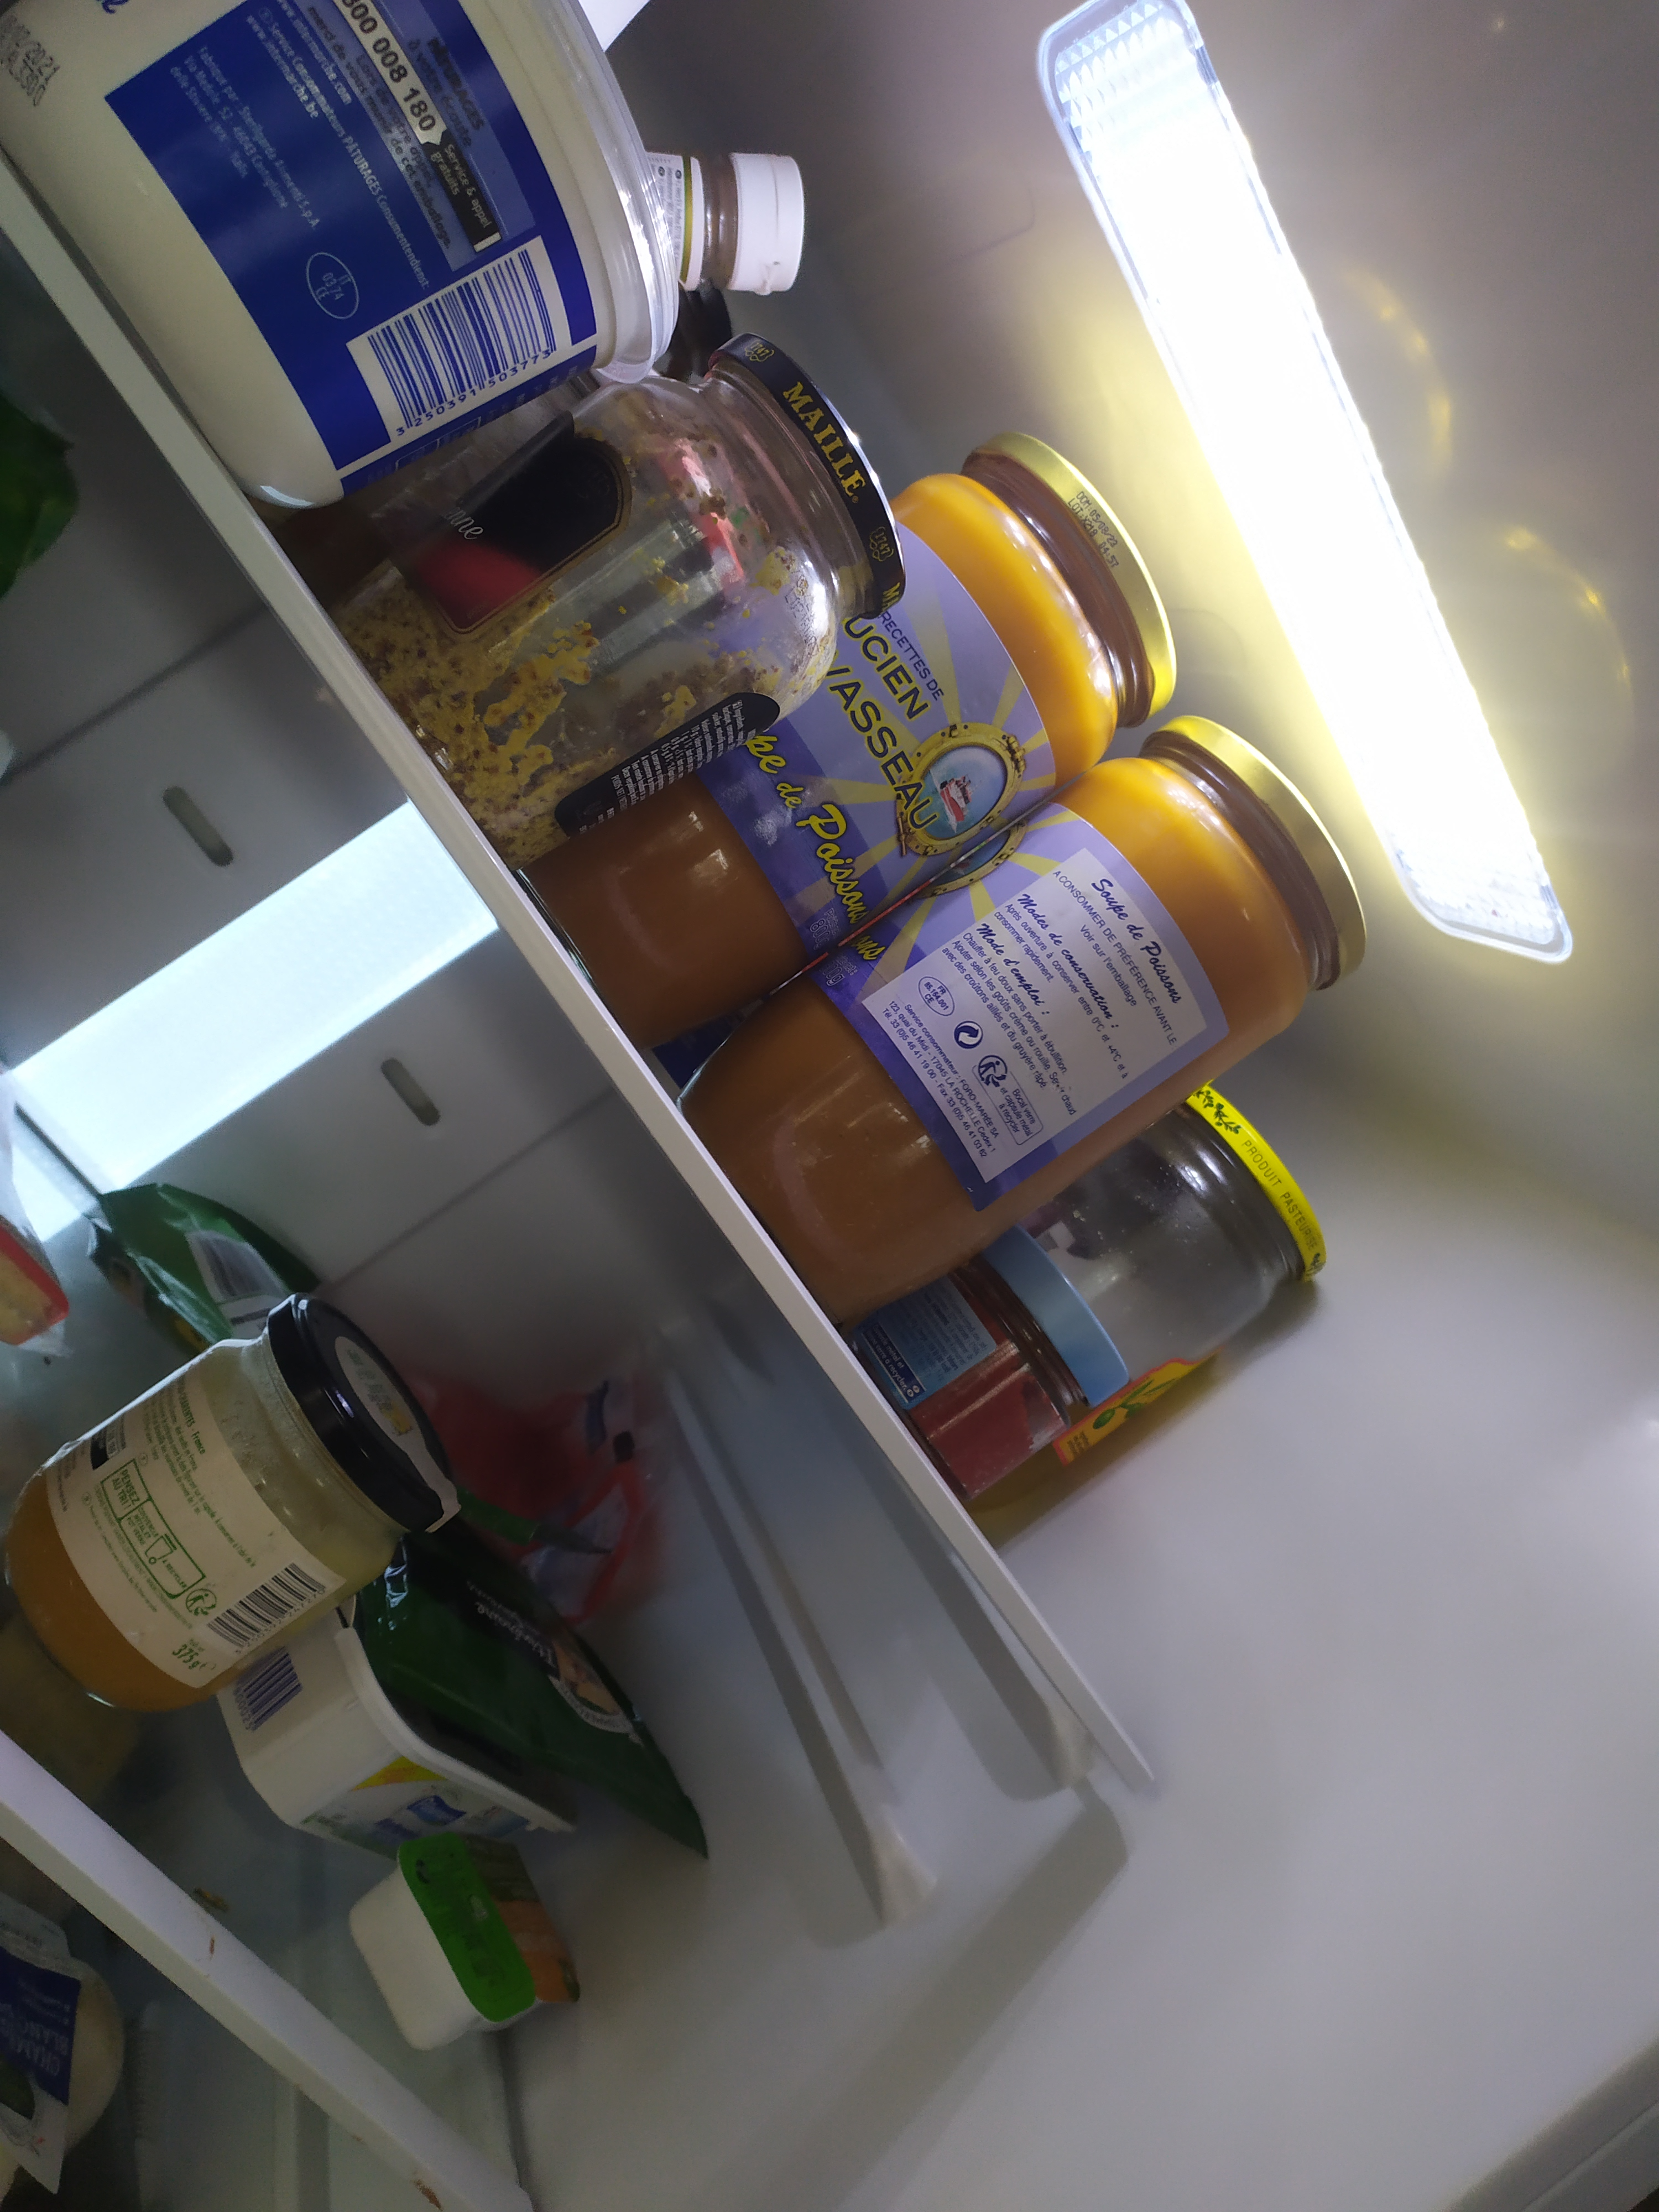mushroom: (0, 1898, 136, 2210)
